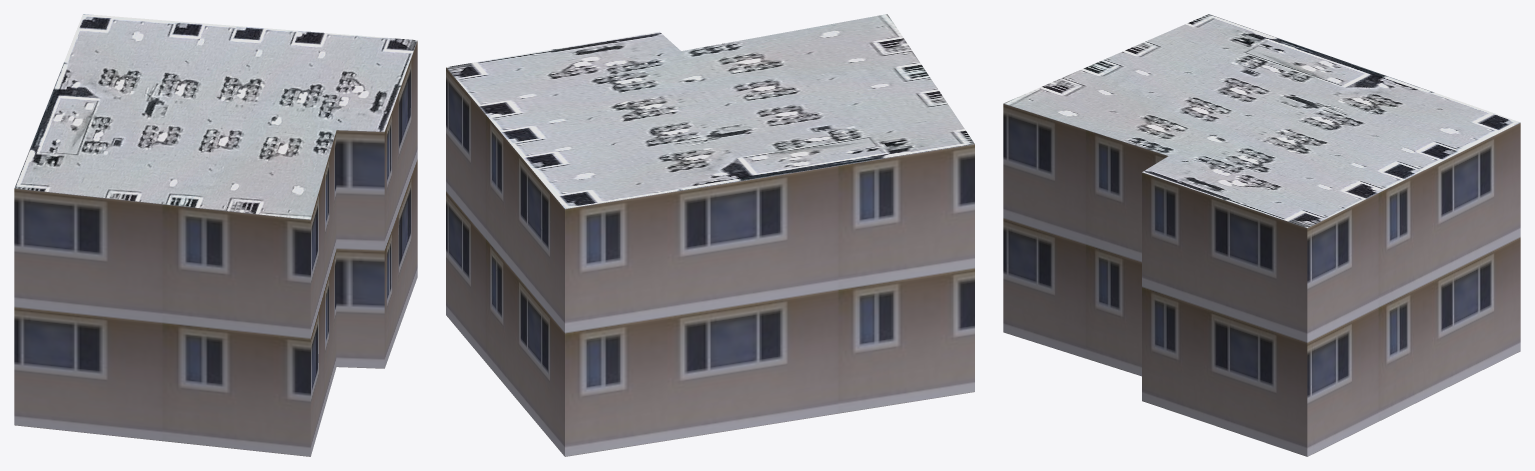
Rendered from ResTex__4435.fbx.
The picture shows the model from 3 angles, left to right: view 1: azimuth 30°, elevation 25°; view 2: azimuth 150°, elevation 25°; view 3: azimuth 270°, elevation 25°; orthographic projection. The views are drawn at different scales.
Parts seen in each view (by area): view 1: CityEngineMaterial_21_m, CityEngineMaterial_8_m; view 2: CityEngineMaterial_21_m, CityEngineMaterial_8_m; view 3: CityEngineMaterial_21_m, CityEngineMaterial_8_m.
Boxes of the visible parts, <box> form: CityEngineMaterial_21_m: <box>14,41,417,456</box>; CityEngineMaterial_8_m: <box>14,14,417,219</box>; CityEngineMaterial_21_m: <box>446,67,974,456</box>; CityEngineMaterial_8_m: <box>446,14,974,208</box>; CityEngineMaterial_21_m: <box>1003,103,1520,456</box>; CityEngineMaterial_8_m: <box>1003,14,1520,227</box>.
Size of the model in its own units: 12.04 by 6 by 12.3.
2 materials, 2 textured.
